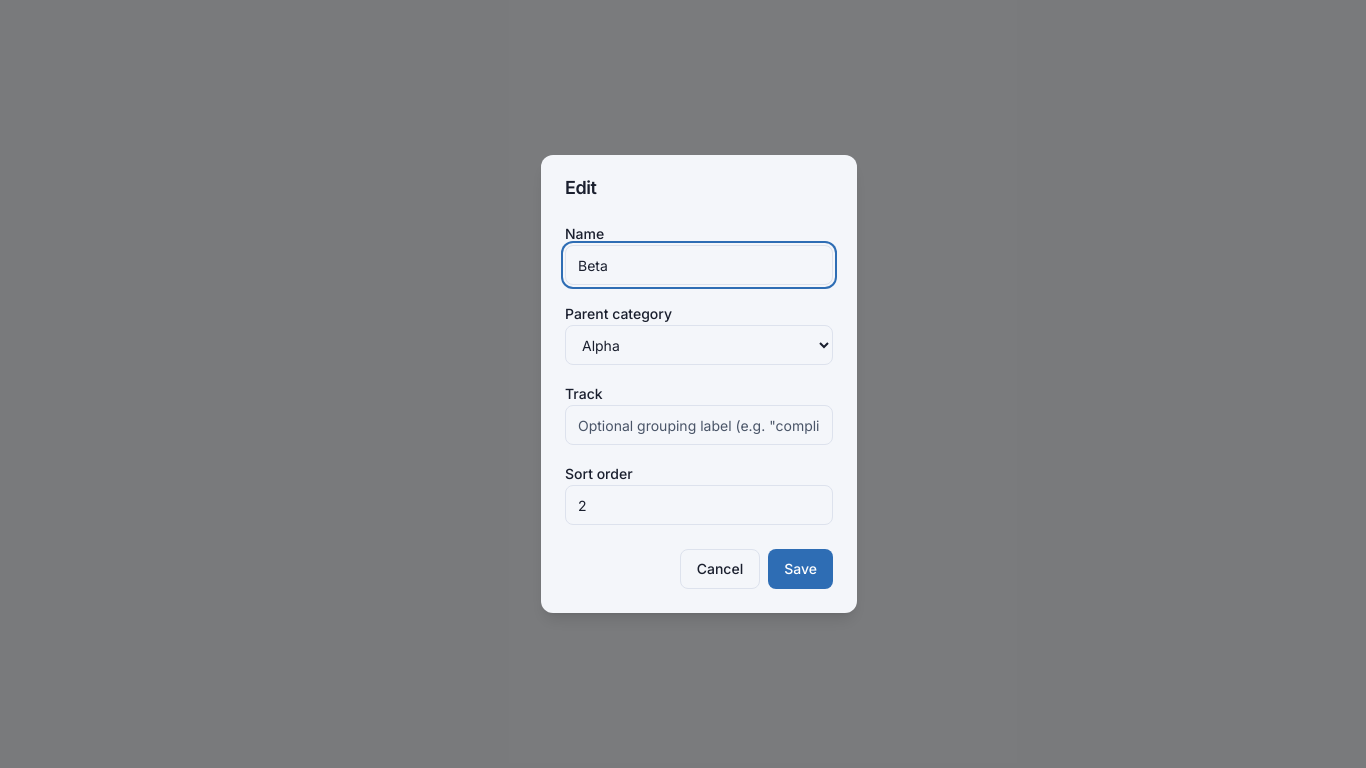
Test: CategoryEditModal - edit mode › shows the generic API message when the update fails for another reason
In the field labelled "Track": (699, 425) 565,405 -> 833,445, type "x"
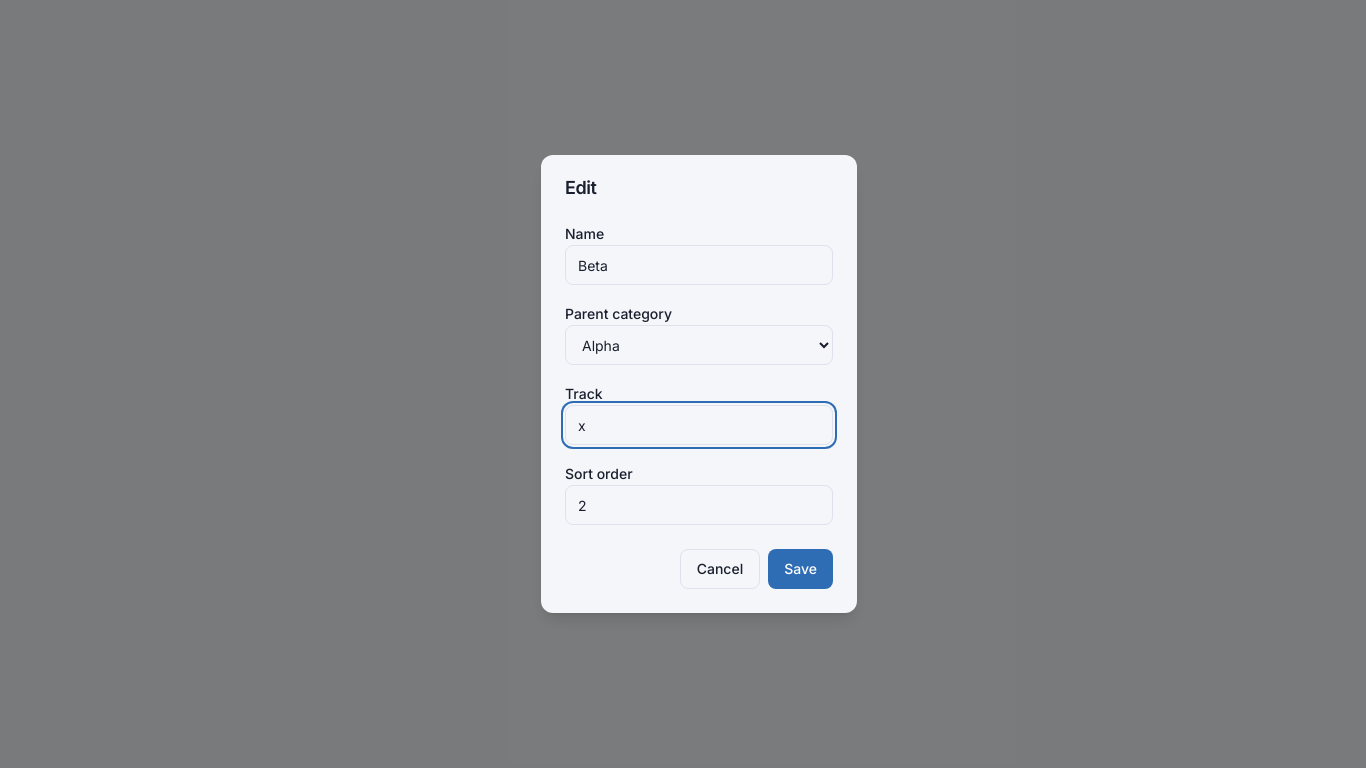
Click the button "Save": (801, 569) 768,549 -> 833,589
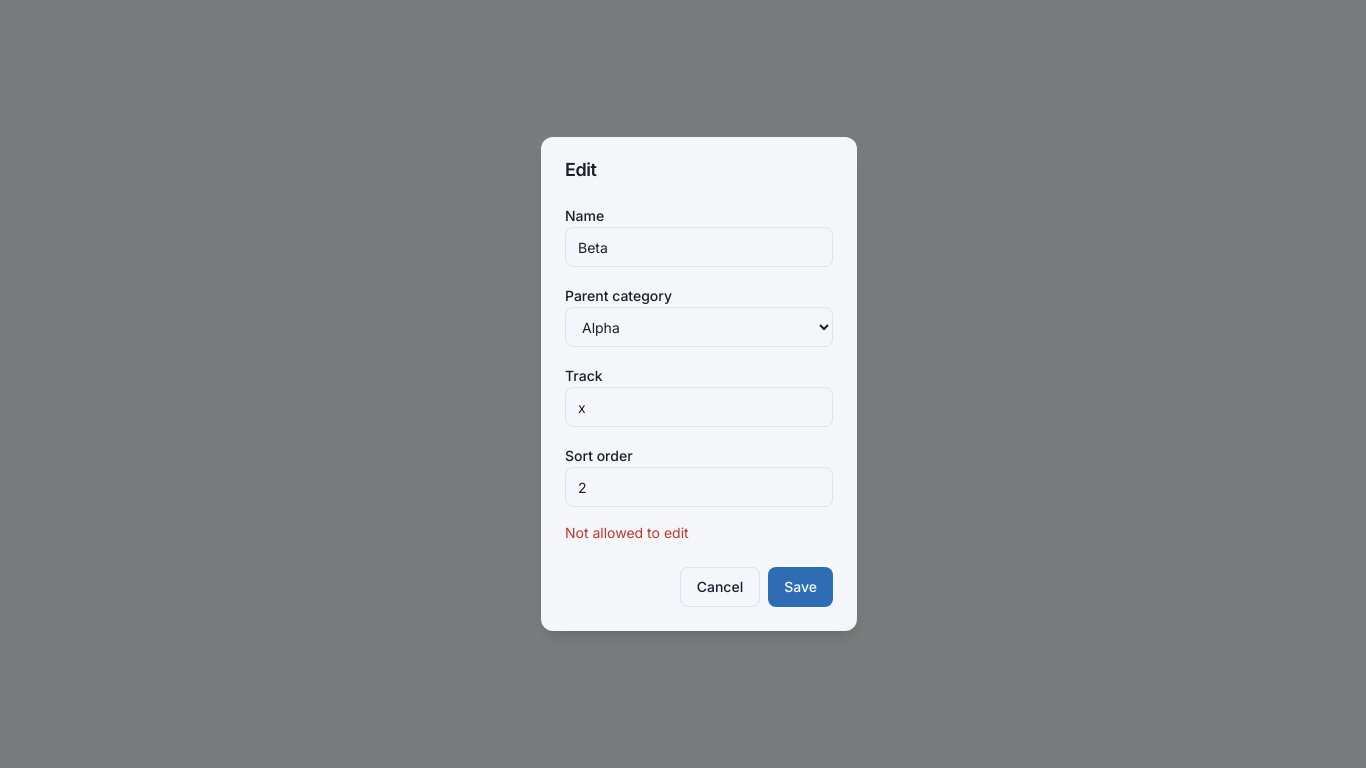
Now the text "Not allowed to edit" is shown, box 565,524 -> 689,541
